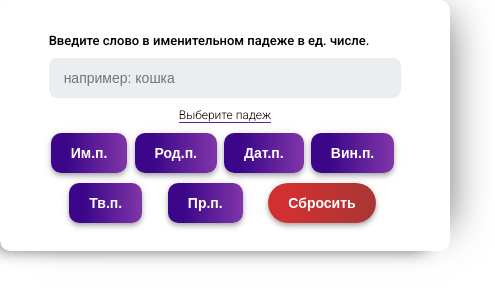
it: Form › render errors when user typing latin letters
Type "test" into the field at x=225, y=78, box left=49, top=58, right=401, bottom=98
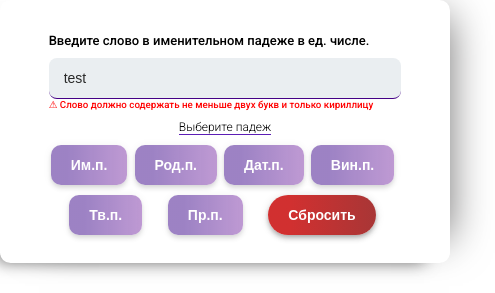
expect the text "Слово должно содержать не меньше двух букв и только кириллицу" is shown: met, box left=49, top=99, right=373, bottom=110
